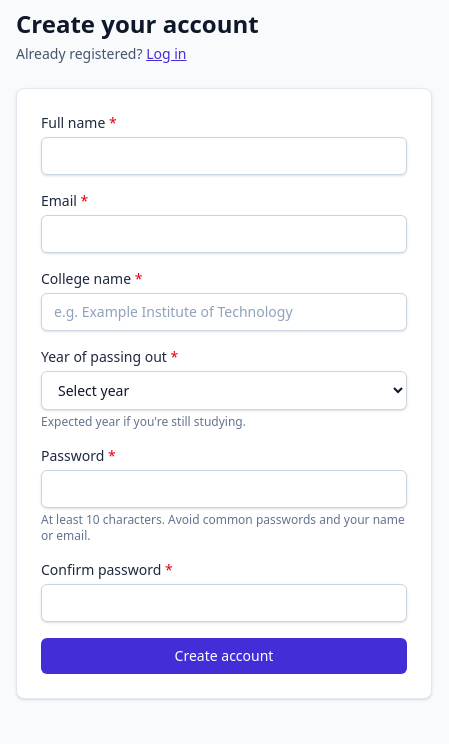
RegisterPage college details › requires college name and year of passing out
Type "Casey Example" into the field labelled "Full name *" at (224, 156), box x1=41 y1=137 x2=407 y2=175
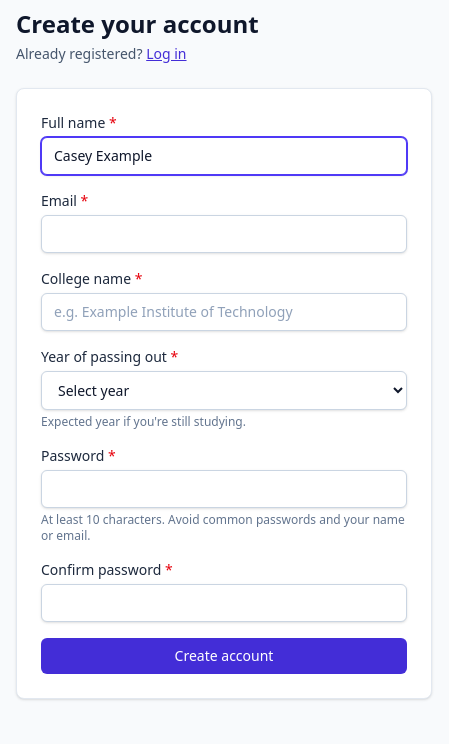
Type "casey@example.com" into the field labelled "Email *" at (224, 234), box x1=41 y1=215 x2=407 y2=253
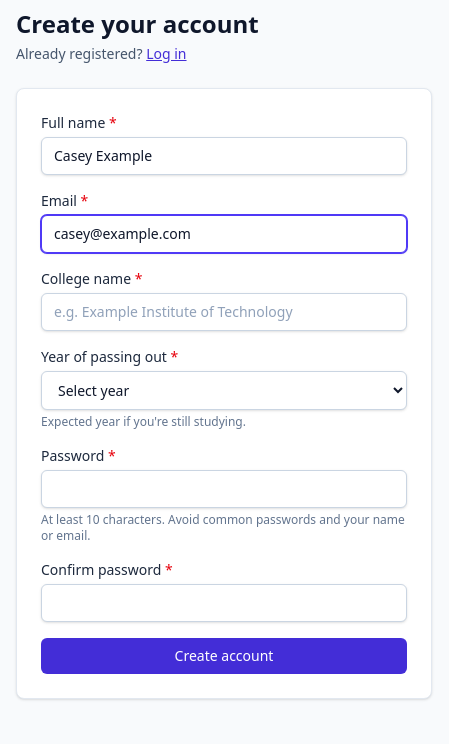
Type "Long-Enough-Pass-1" into the password field labelled "Password *" at (224, 489), box x1=41 y1=470 x2=407 y2=508
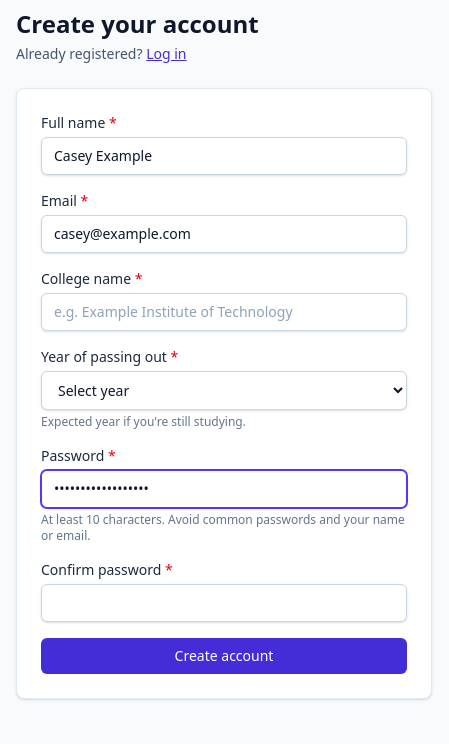
Type "Long-Enough-Pass-1" into the password field labelled "Confirm password *" at (224, 603), box x1=41 y1=584 x2=407 y2=622
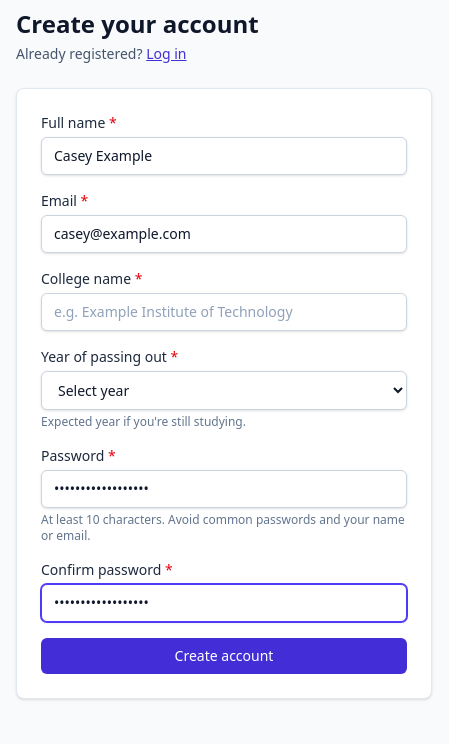
Click the button "Create account" at (224, 656), box x1=41 y1=638 x2=407 y2=674
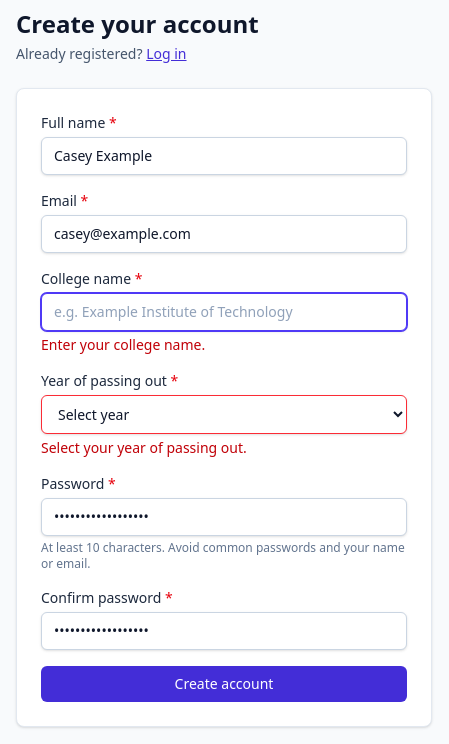
Result: the text "Enter your college name." is shown at x1=41 y1=335 x2=205 y2=354
Result: the text "Select your year of passing out." is shown at x1=41 y1=438 x2=247 y2=457
